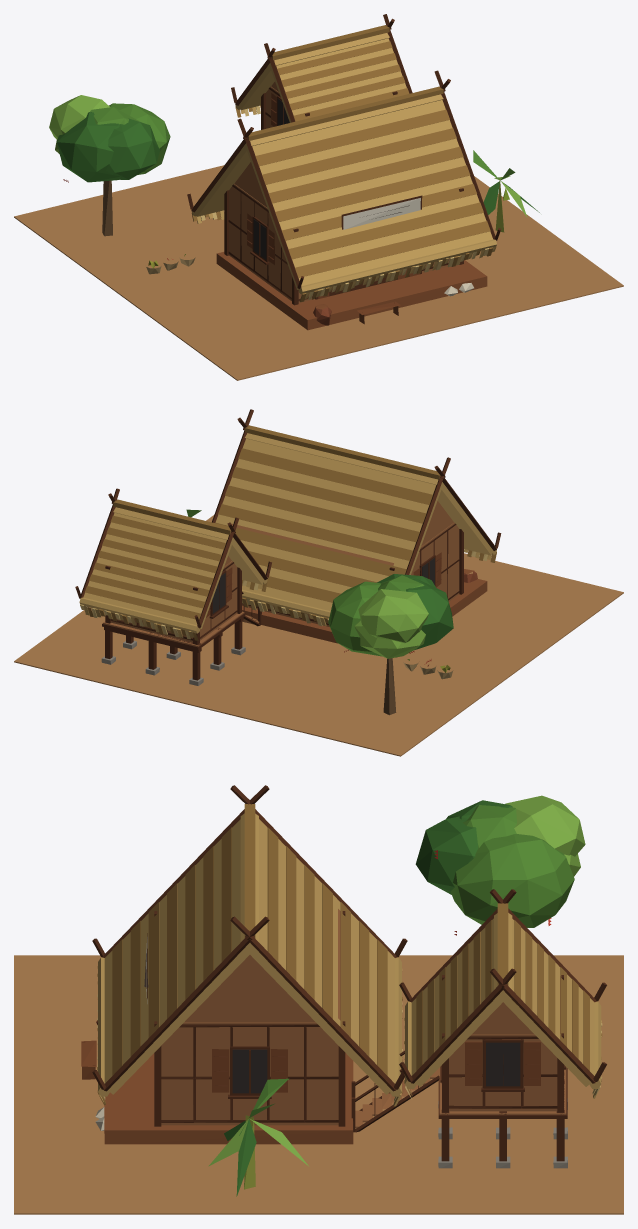
The model's file is shop_2.glb.
3 renders of one model, top to bottom at view 1: azimuth 30°, elevation 25°; view 2: azimuth 150°, elevation 25°; view 3: azimuth 270°, elevation 25°, orthographic. The views are drawn at different scales.
Visible parts, largest first — view 1: body, windows; view 2: body, windows; view 3: body, windows.
Boxes of the visible parts, <box> form: body: <box>14,14,623,380</box>; windows: <box>253,98,289,259</box>; body: <box>14,409,623,756</box>; windows: <box>212,558,434,613</box>; body: <box>14,785,623,1214</box>; windows: <box>232,1042,520,1093</box>.
Size of the model in its own units: 15.9 by 6.8 by 15.9.
